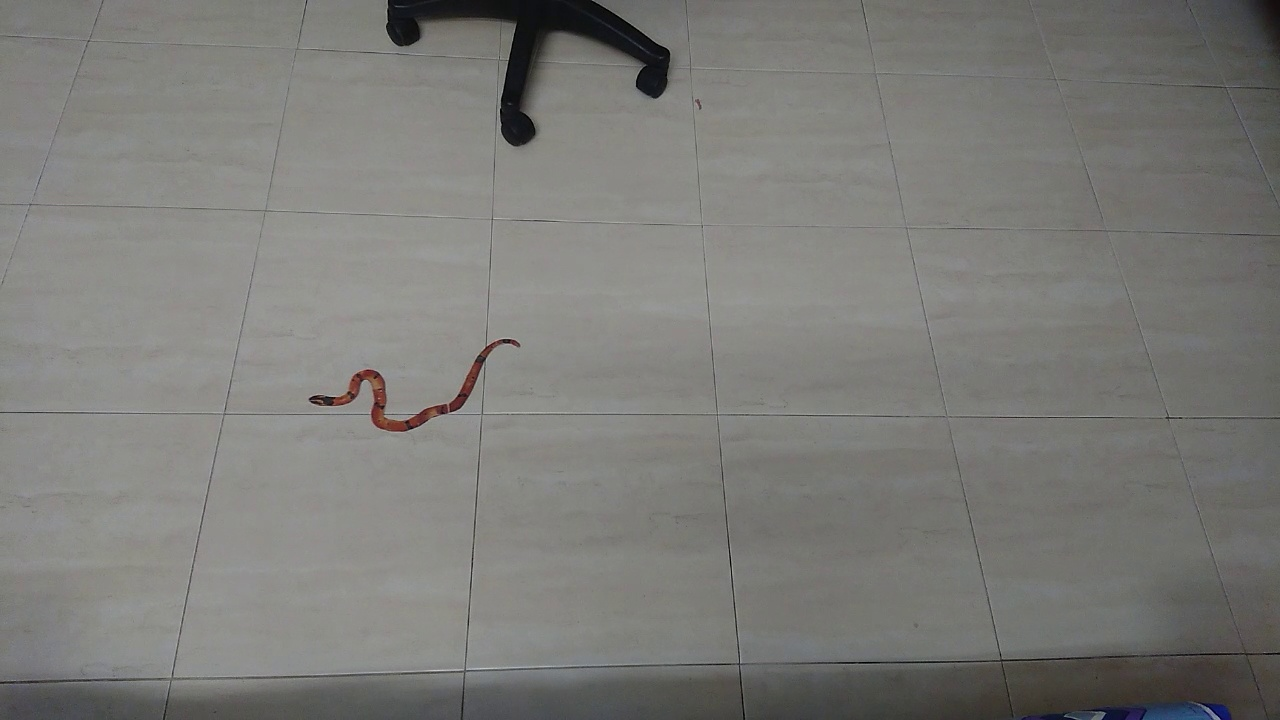snake: (285, 322, 544, 449)
